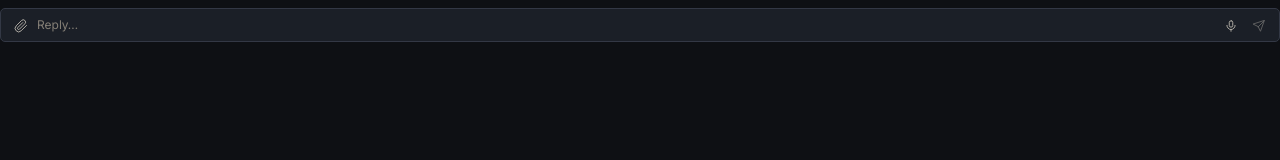
the voice area › VOM-FR-JBJI: the Voice button leaves voice mode
This screenshot has width=1280, height=160.
Click the button with test id "voice-button".
click(1231, 26)  # box [1219,15,1243,37]
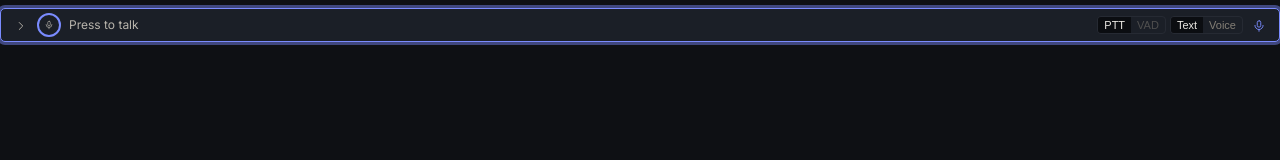
Click the button named "Leave voice mode".
click(1259, 26)  # box [1247,15,1271,37]
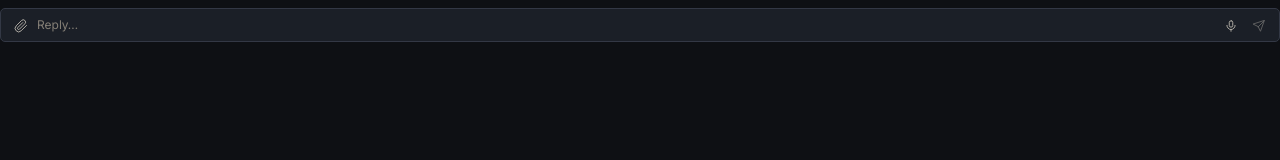
Result: the text box is shown at [37,13,1215,37]
